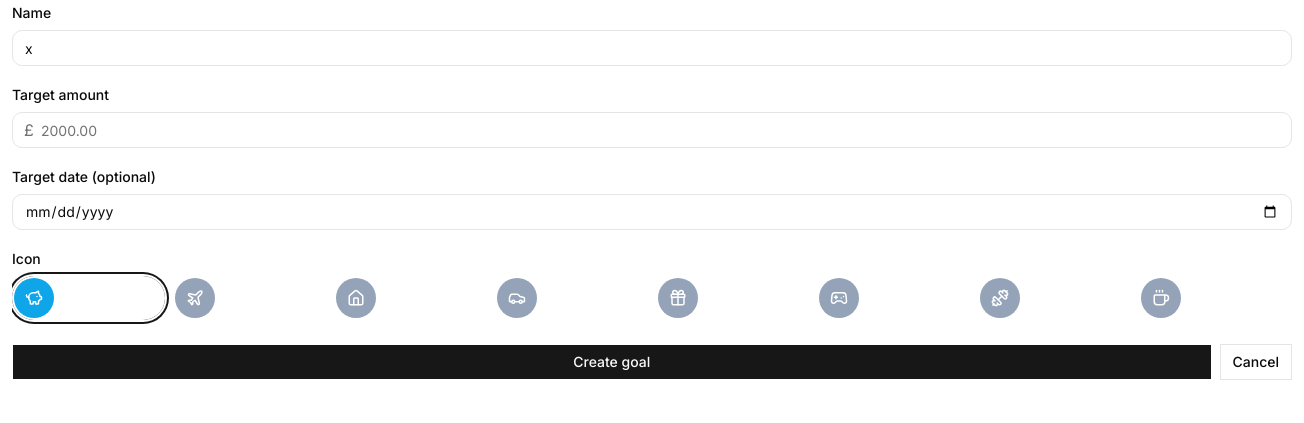
Test: GoalForm (KAN-65) › rejects target amount of 0 or less
Type "0" into the number field labelled "Target amount" at (652,130), box [12,112,1292,148]
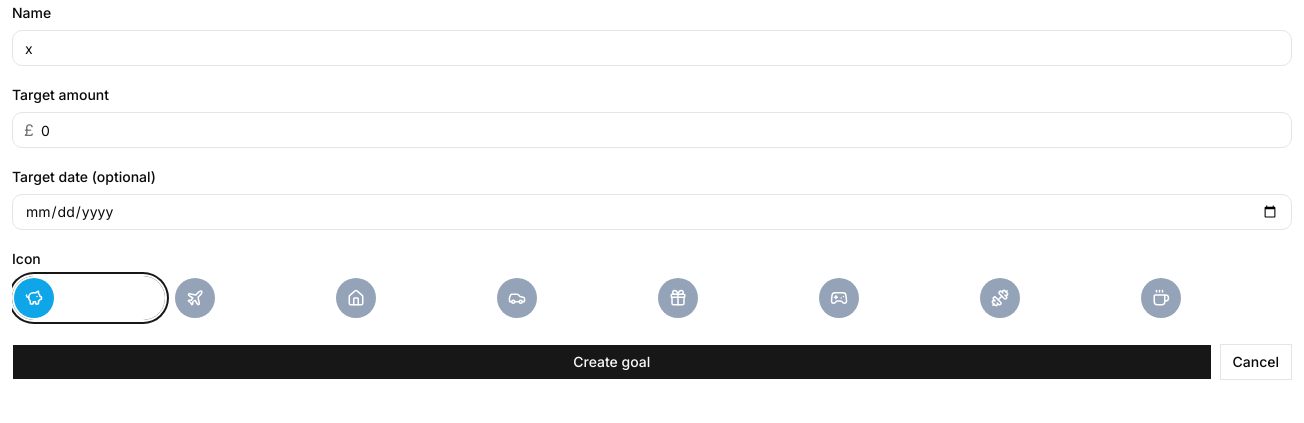
Click the button "Create goal" at (612,362), box [12,344,1212,380]
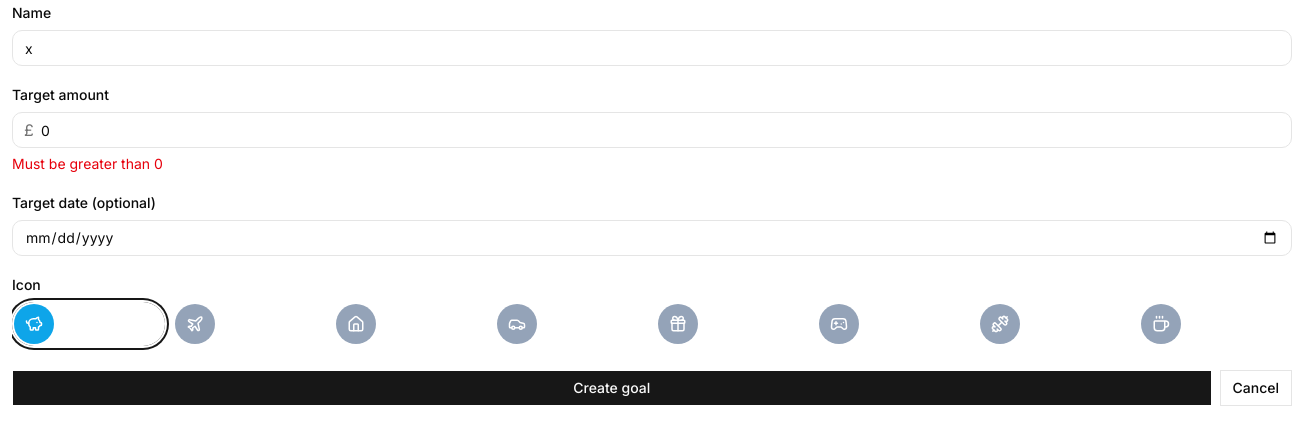
Expected: the text "Must be greater than 0" is shown, [12,155,163,172]
